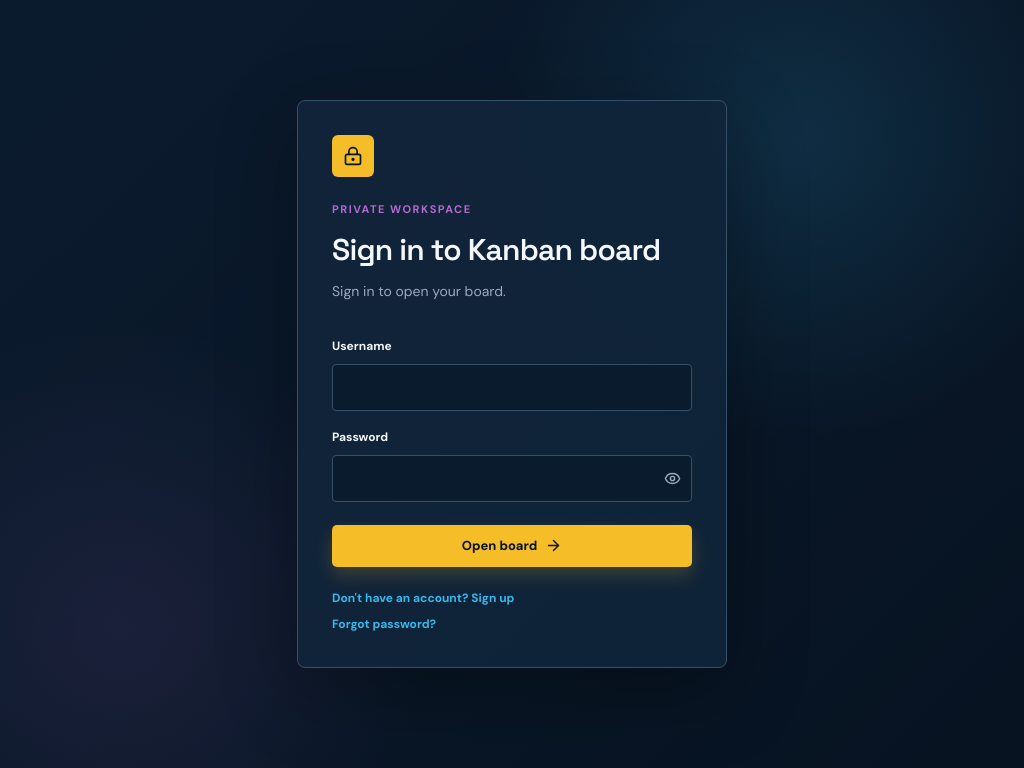
Test case: SignIn › shows an error for invalid credentials
Type "alice" into the field labelled "Username" at [512, 387], box [332,364,692,411]
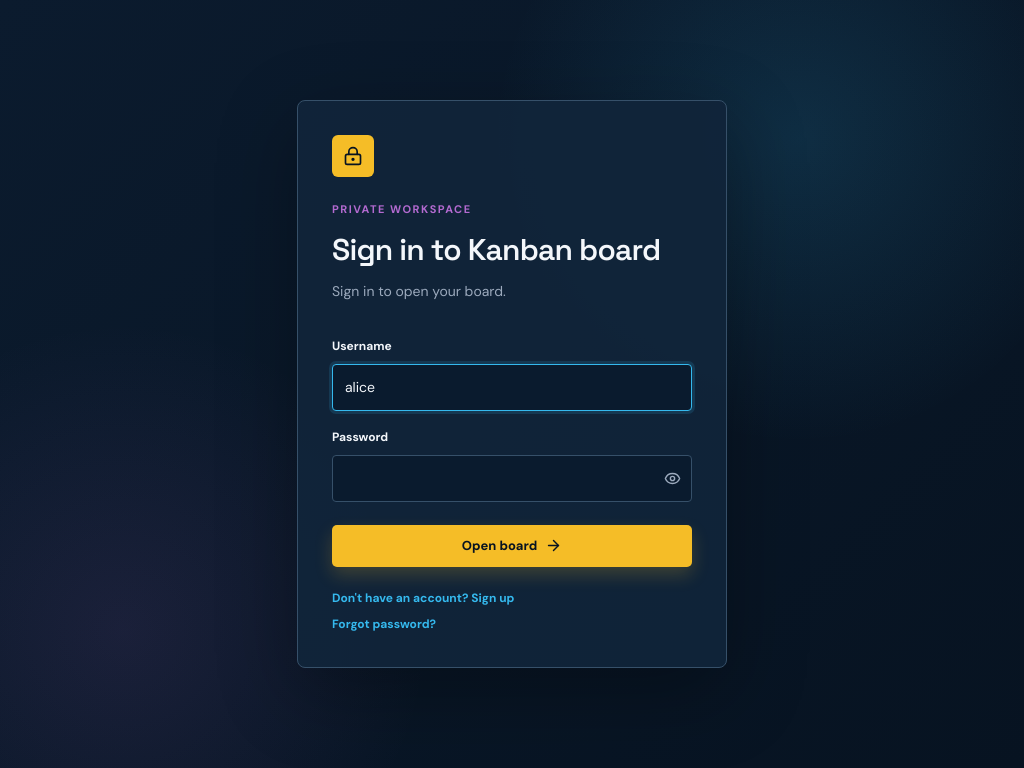
Type "wrong" into the password field labelled "Password" at [512, 478], box [332,455,692,502]
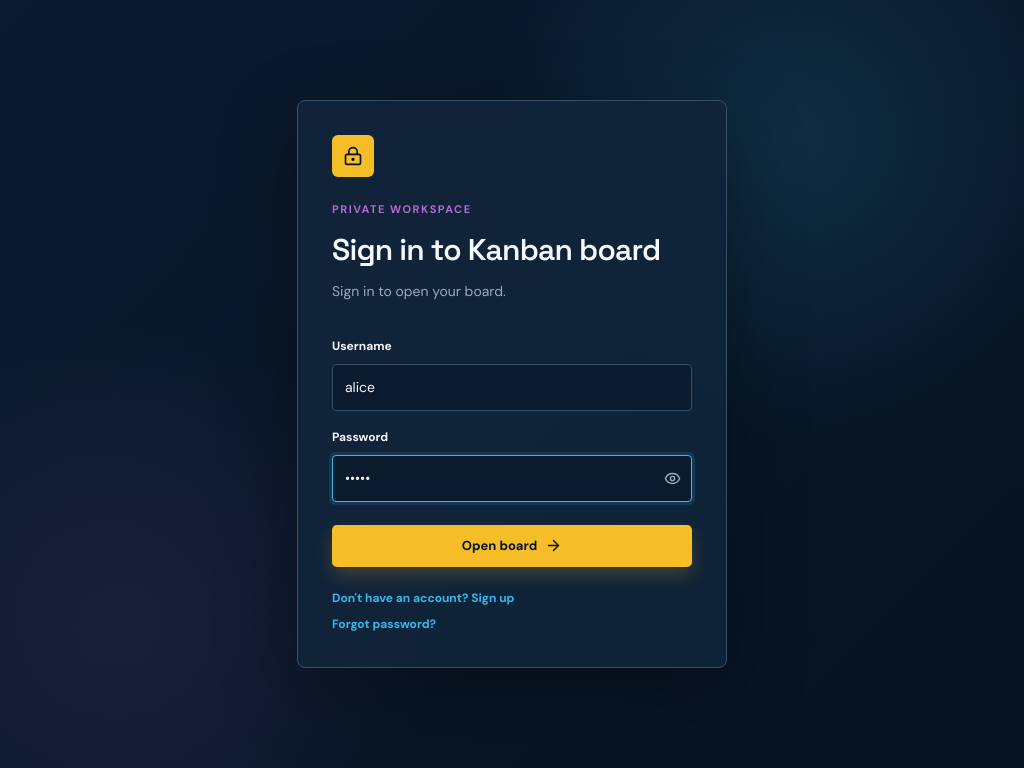
Click the button "Open board" at [512, 546], box [332,525,692,567]
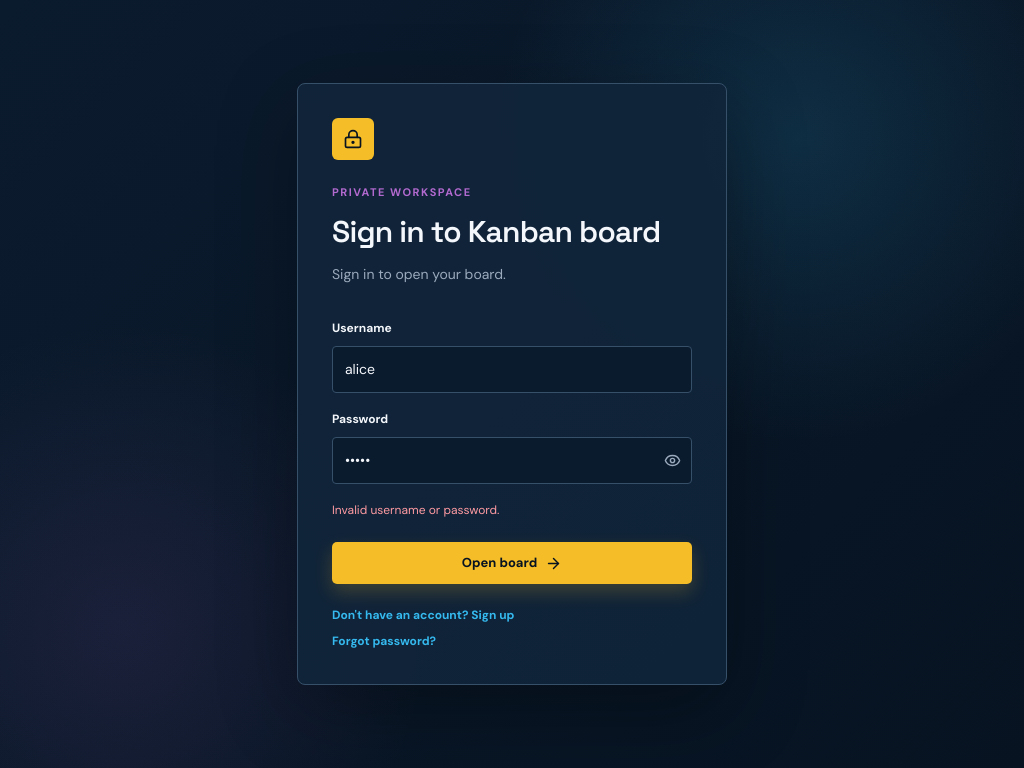
Expected: the message reads "Invalid username or password.", [332,502,499,518]
